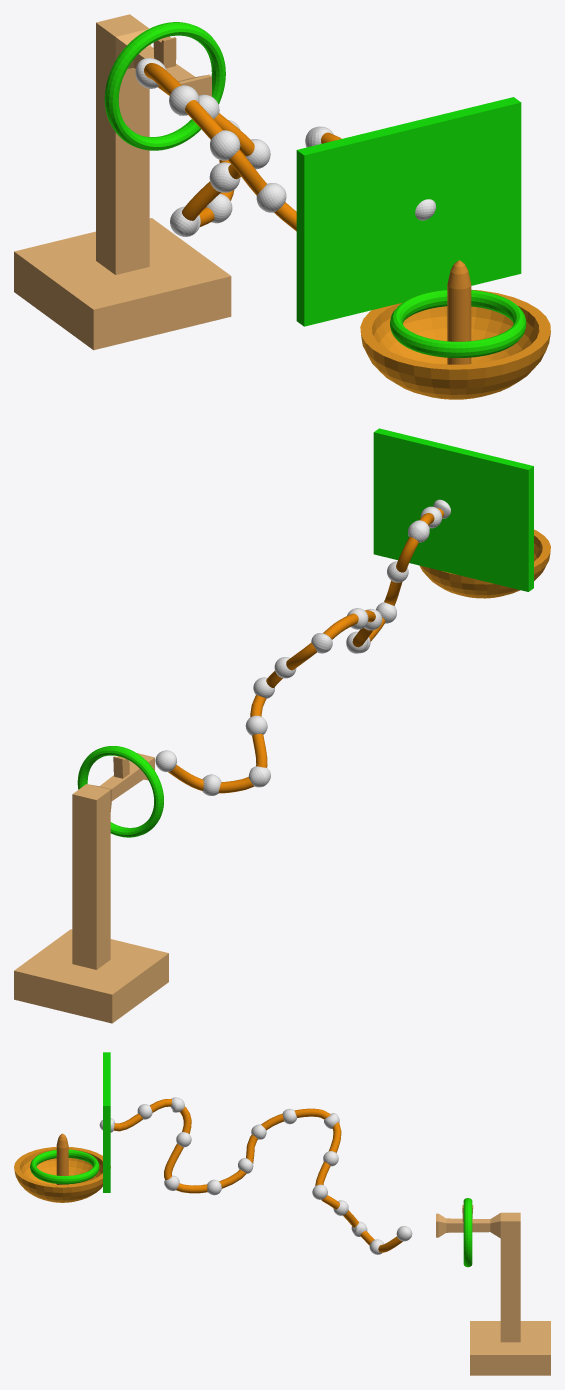
The model's file is ring_v2.fbx.
3 views of the same model, one above another, from view 1: azimuth 30°, elevation 25°; view 2: azimuth 150°, elevation 25°; view 3: azimuth 270°, elevation 25° (orthographic). The views are drawn at different scales.
Parts seen in each view (by area): view 1: wall, Cube.001, bowl, RIng, RIng.001, BezierCurve, Cylinder, Node.008, Node.007, Node.014, Node.009, Cube.002 (+3 smaller); view 2: wall, Cube.001, BezierCurve, bowl, RIng; view 3: Cube.001, BezierCurve, bowl, RIng.001, wall, RIng, Cylinder.
Part boxes in pixels (x1,y1,x2,y2): wall: [296, 97, 521, 326]; Cube.001: [14, 14, 231, 350]; bowl: [360, 289, 550, 399]; RIng: [104, 22, 225, 150]; RIng.001: [390, 290, 526, 357]; BezierCurve: [144, 63, 341, 231]; Cylinder: [447, 260, 471, 364]; Node.008: [210, 130, 240, 160]; Node.007: [256, 183, 286, 212]; Node.014: [209, 162, 240, 192]; Node.009: [169, 85, 199, 115]; Cube.002: [153, 36, 176, 68]; wall: [373, 428, 533, 591]; Cube.001: [14, 753, 168, 1023]; BezierCurve: [168, 508, 444, 793]; bowl: [420, 529, 550, 598]; RIng: [77, 746, 163, 837]; Cube.001: [436, 1212, 550, 1375]; BezierCurve: [113, 1098, 402, 1252]; bowl: [14, 1147, 110, 1202]; RIng.001: [30, 1149, 99, 1184]; wall: [103, 1052, 110, 1192]; RIng: [463, 1198, 472, 1267]; Cylinder: [56, 1133, 68, 1184].
Size of the model in its own units: 418 by 687 by 1328.
